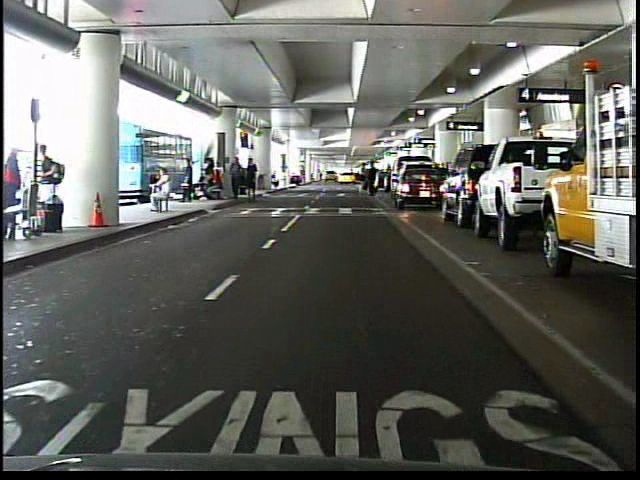person: (144, 167, 175, 216), (364, 158, 384, 202), (180, 155, 197, 206), (351, 160, 369, 197)
